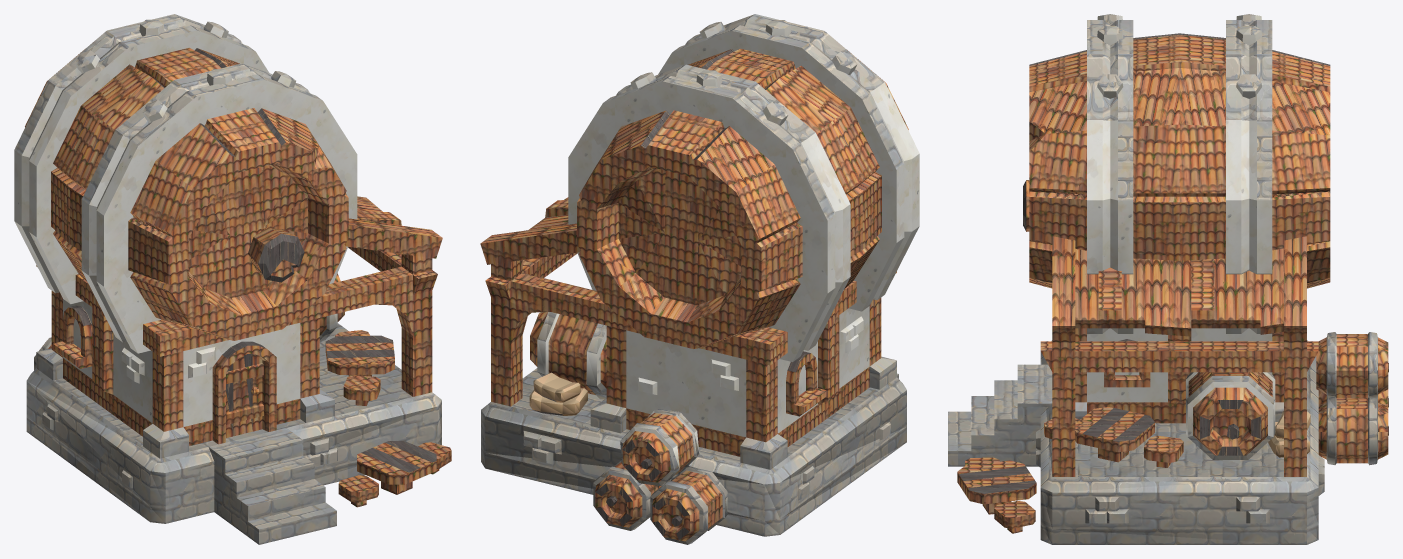
The model's file is building_tavern_red.gltf.
The picture shows the model from 3 angles, left to right: view 1: azimuth 30°, elevation 25°; view 2: azimuth 150°, elevation 25°; view 3: azimuth 270°, elevation 25°; orthographic projection. The views are drawn at different scales.
Visible parts, largest first — view 1: building_tavern_red; view 2: building_tavern_red; view 3: building_tavern_red.
Boxes of the visible parts, <box> form: building_tavern_red: <box>14,14,451,544</box>; building_tavern_red: <box>480,14,919,544</box>; building_tavern_red: <box>948,14,1388,544</box>.
Size of the model in its own units: 1.17 by 1.4 by 1.33.
9 materials, 4 textured.
